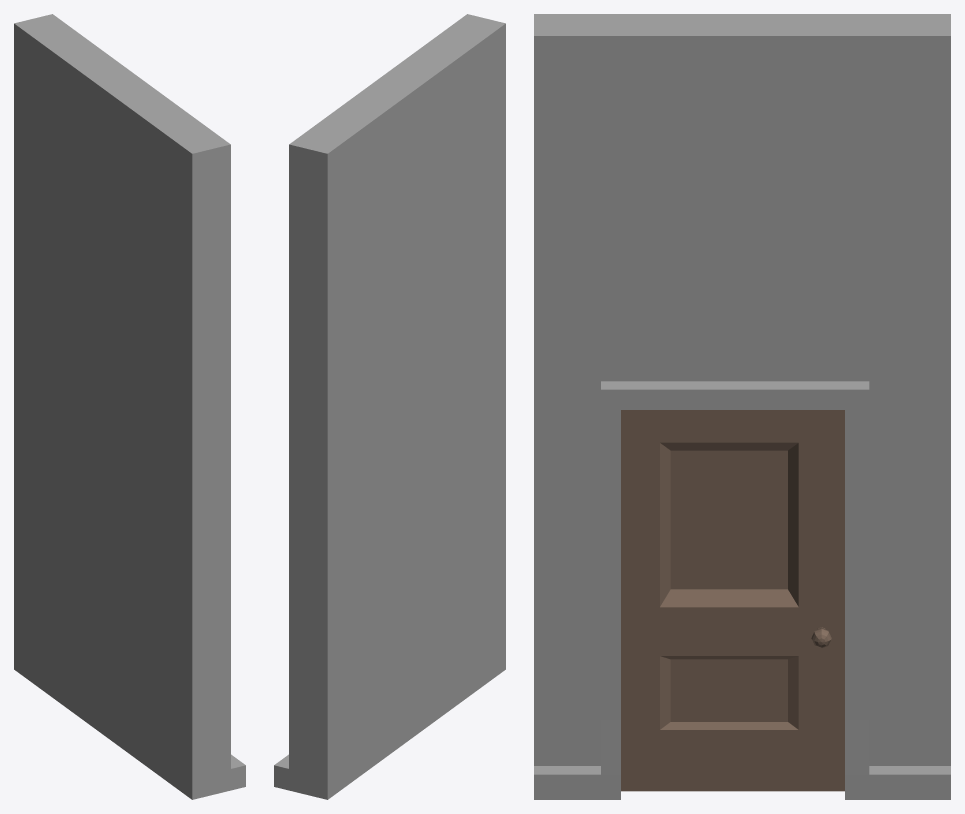
File: SM_wall_door.fbx
The picture shows the model from 3 angles, left to right: view 1: azimuth 30°, elevation 25°; view 2: azimuth 150°, elevation 25°; view 3: azimuth 270°, elevation 25°; orthographic projection. The views are drawn at different scales.
Visible parts, largest first — view 1: door_wall; view 2: door_wall; view 3: door_wall.
Part boxes in pixels (box(x1,y1,x2,y2)): door_wall: box(14, 14, 245, 799); door_wall: box(274, 14, 505, 799); door_wall: box(534, 14, 950, 799).
Bounding box in the file's own units: 0.367 × 4 × 2.
